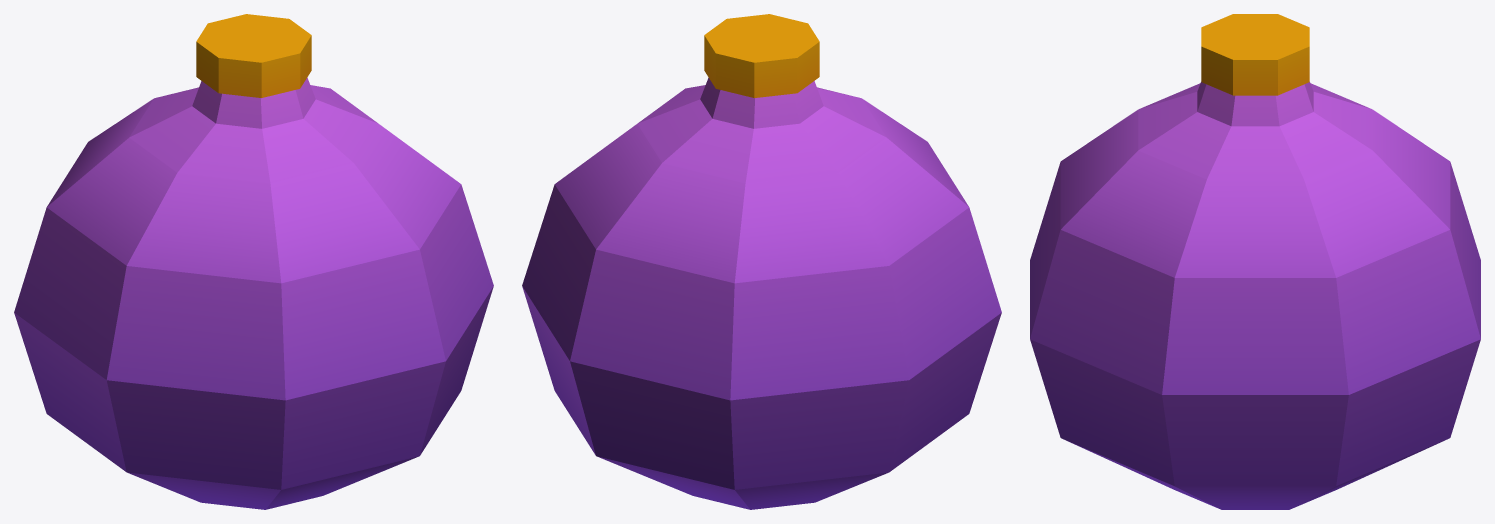
Rendered from ball purple.fbx.
3 views of the same model, side by side, from view 1: azimuth 30°, elevation 25°; view 2: azimuth 150°, elevation 25°; view 3: azimuth 270°, elevation 25° (orthographic).
Parts seen in each view (by area): view 1: ball purple; view 2: ball purple; view 3: ball purple.
Boxes of the visible parts, box(x1,y1,x2,y2) form: ball purple: box(14, 14, 493, 509); ball purple: box(522, 14, 1001, 509); ball purple: box(1030, 14, 1480, 509).
Size of the model in its own units: 26.53 by 29.42 by 26.53.
